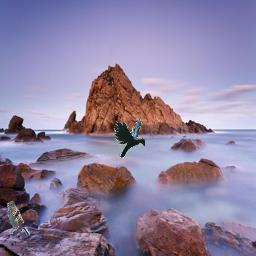Crow: (114, 118, 145, 158)
Sparrow: (7, 201, 30, 236)
